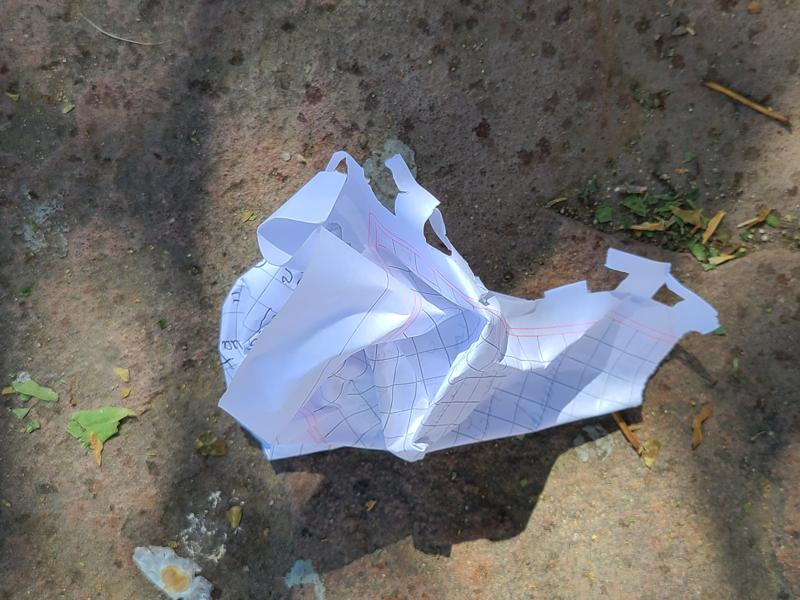papel: (218, 143, 720, 466)
